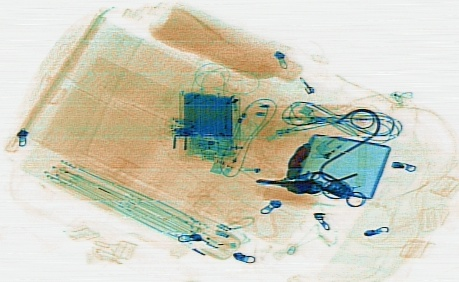lighter: (313, 112, 377, 160)
powerbank: (180, 91, 236, 157)
